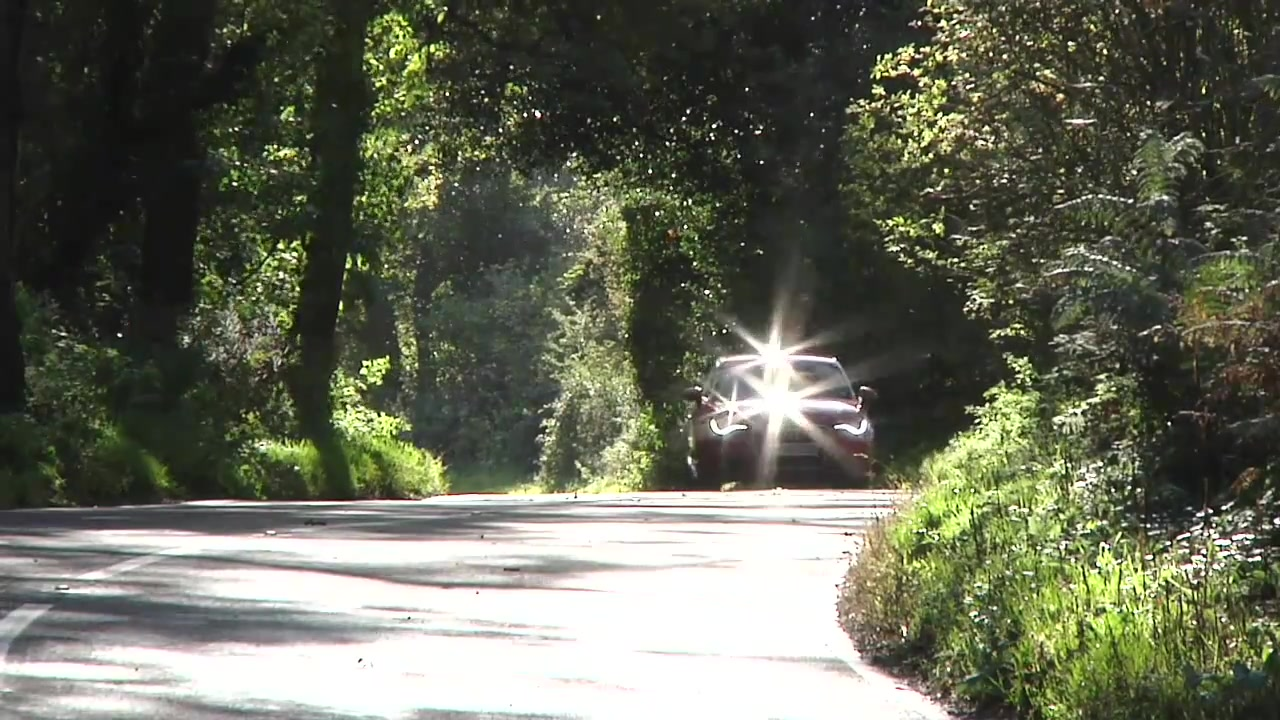car: (674, 351, 883, 487)
